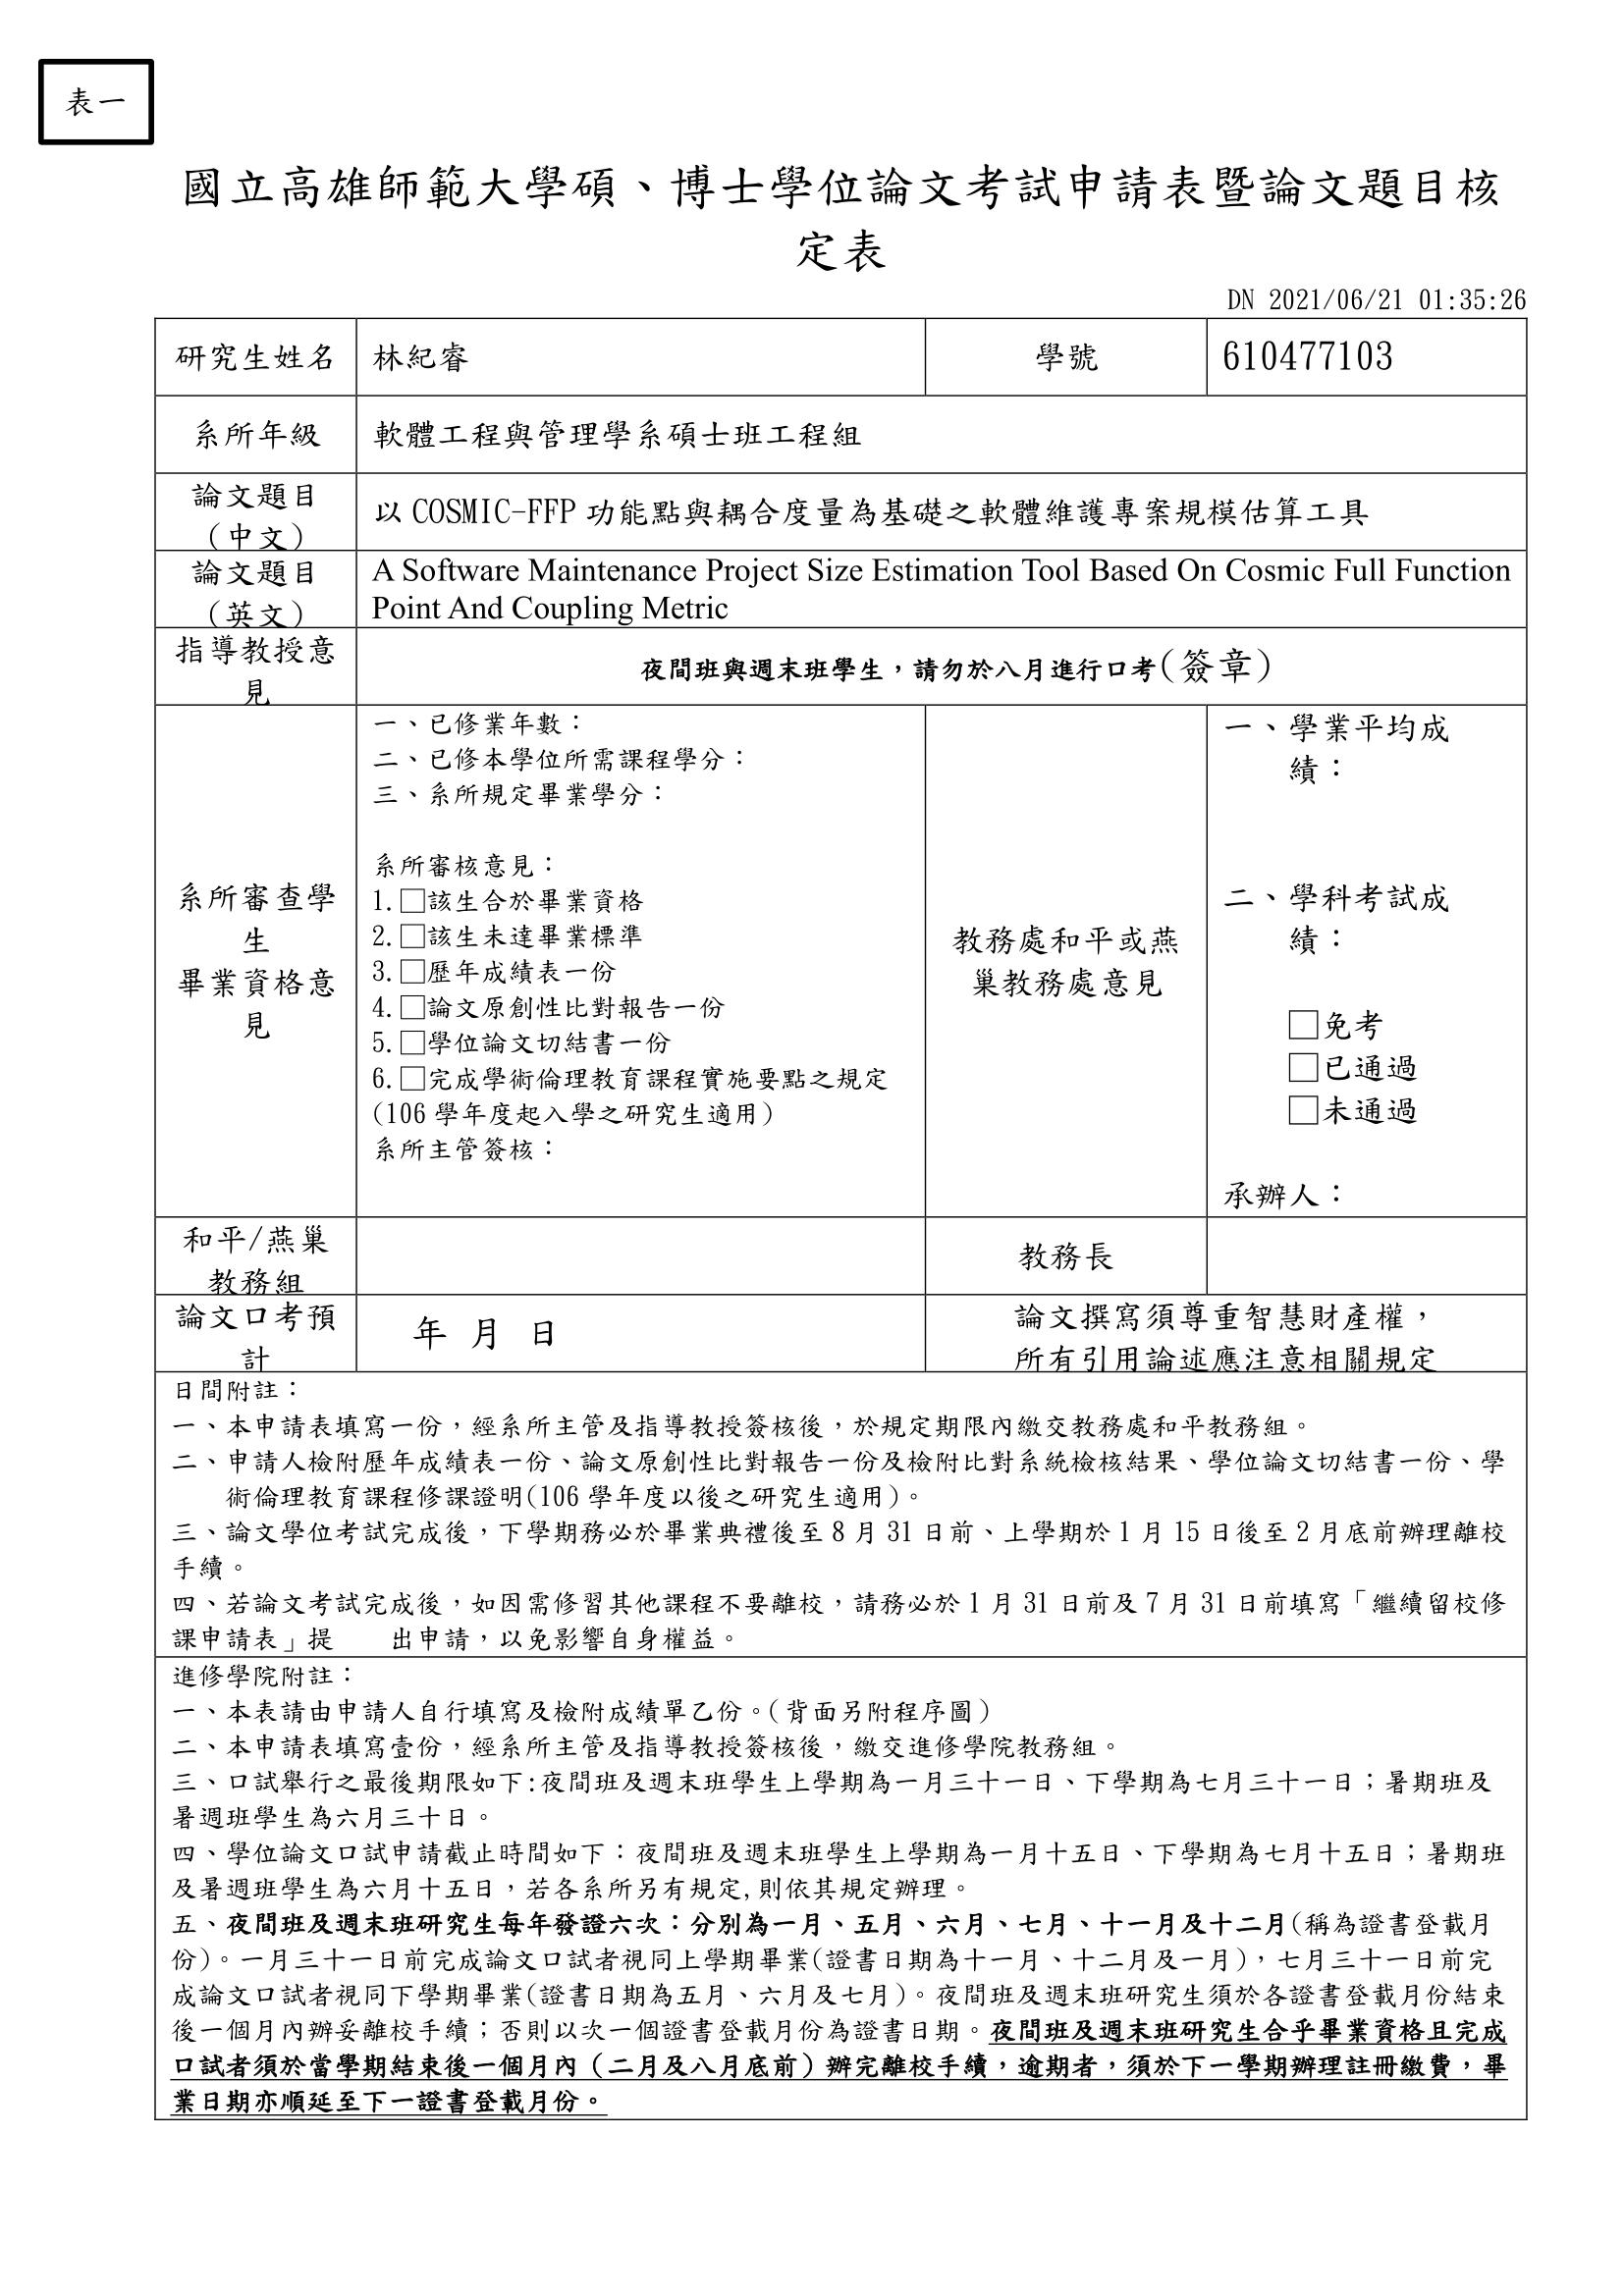table: (144, 309, 1541, 2136)
text: (160, 149, 1513, 274), (1220, 276, 1529, 313), (56, 72, 139, 132)
